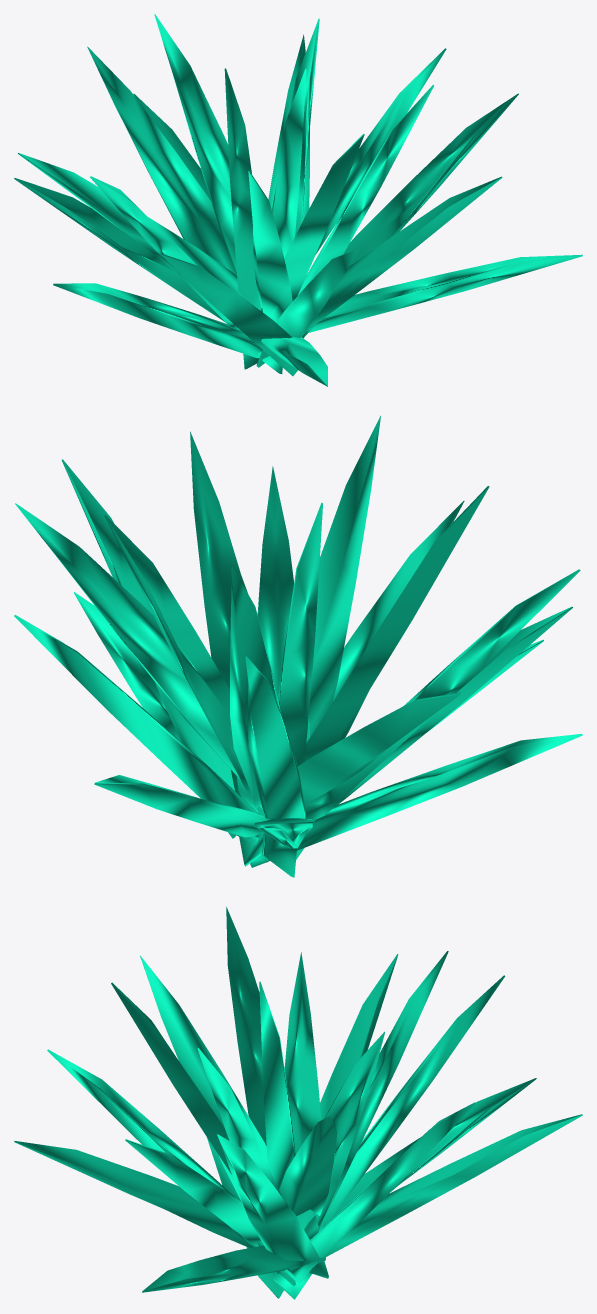
File: Agave_LOD0.obj
3 views of the same model, one above another, from view 1: azimuth 30°, elevation 25°; view 2: azimuth 150°, elevation 25°; view 3: azimuth 270°, elevation 25° (orthographic). The views are drawn at different scales.
Parts seen in each view (by area): view 1: Agave_LOD0; view 2: Agave_LOD0; view 3: Agave_LOD0.
Boxes of the visible parts, x1=… form: Agave_LOD0: x1=14, y1=14, x2=582, y2=386; Agave_LOD0: x1=14, y1=415, x2=582, y2=877; Agave_LOD0: x1=14, y1=907, x2=582, y2=1299.
Size of the model in its own units: 183 by 117 by 188.
